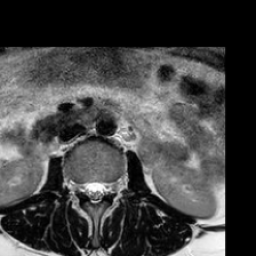CCS_normal: (91, 169, 98, 210)
LFS_normal: (106, 171, 116, 201)
LLS_normal: (98, 171, 106, 206)
RFS_normal: (74, 174, 82, 200)
RLS_normal: (82, 172, 91, 203)
